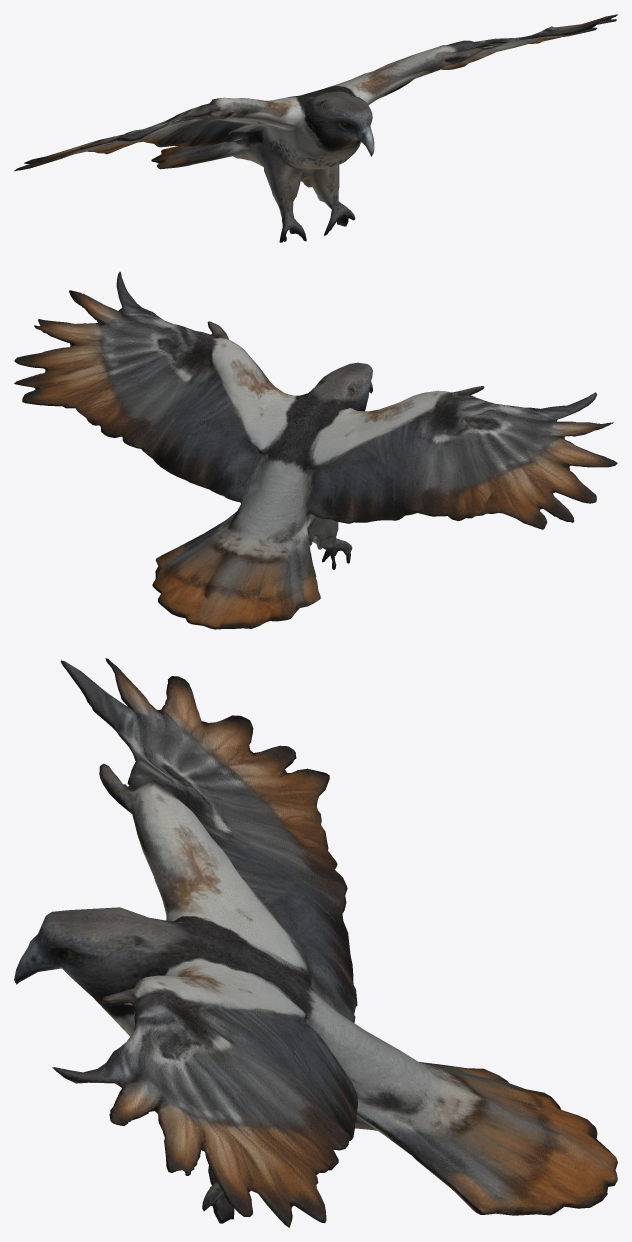
The model's file is eagle.glb.
The picture shows the model from 3 angles, top to bottom: view 1: azimuth 30°, elevation 25°; view 2: azimuth 150°, elevation 25°; view 3: azimuth 270°, elevation 25°; orthographic projection. The views are drawn at different scales.
Visible parts, largest first — view 1: Body, LWing, RWing; view 2: Body, LWing, RWing; view 3: Body, RWing, LWing.
Boxes of the visible parts, box(x1,y1,x2,y2) form: Body: box(151, 50, 437, 242); LWing: box(14, 97, 249, 171); RWing: box(379, 14, 617, 98); Body: box(152, 343, 412, 629); LWing: box(363, 386, 617, 529); RWing: box(14, 272, 245, 480); Body: box(14, 827, 617, 1223); RWing: box(52, 976, 483, 1227); LWing: box(60, 658, 352, 963).
Size of the model in its own units: 2 by 0.6426 by 1.02.
Materials: 1 (1 with a texture image).
